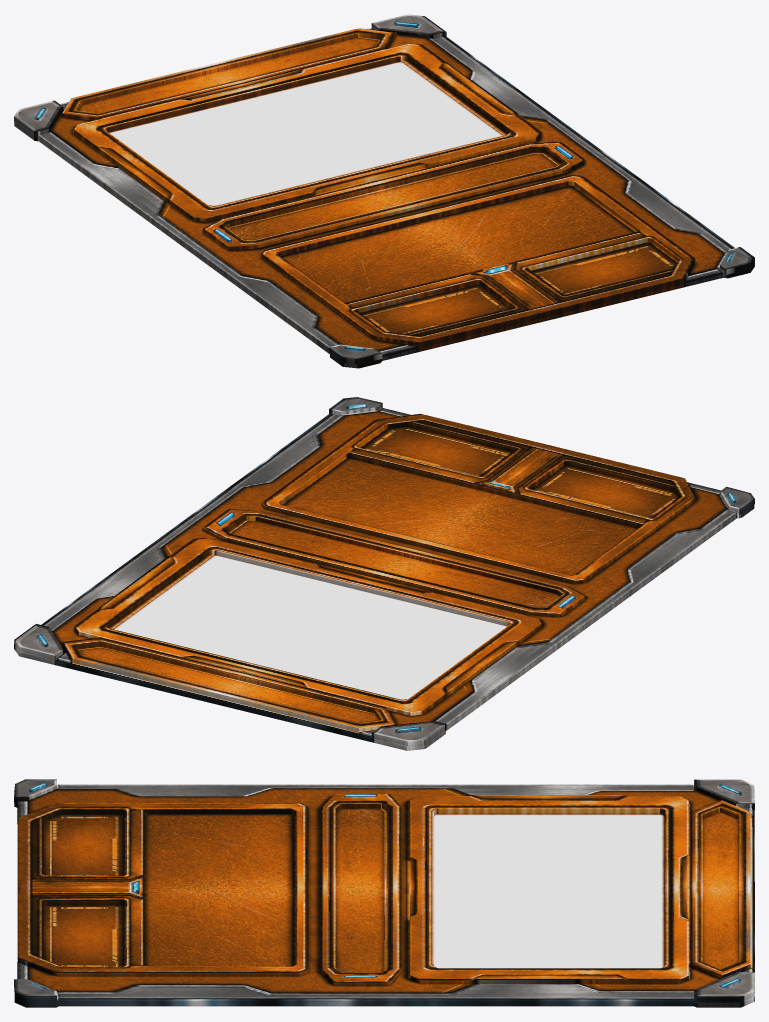
The model's file is Orange.glb.
3 views of the same model, one above another, from view 1: azimuth 30°, elevation 25°; view 2: azimuth 150°, elevation 25°; view 3: azimuth 270°, elevation 25° (orthographic). The views are drawn at different scales.
Visible parts, largest first — view 1: Card; view 2: Card; view 3: Card.
Part boxes in pixels (left/top/right/bottom): Card: left=14, top=14, right=754, bottom=368; Card: left=14, top=397, right=754, bottom=750; Card: left=14, top=779, right=754, bottom=1007.
Bounding box in the file's own units: 0.0636 × 0.00166 × 0.0912.
8 materials, 8 textured.
